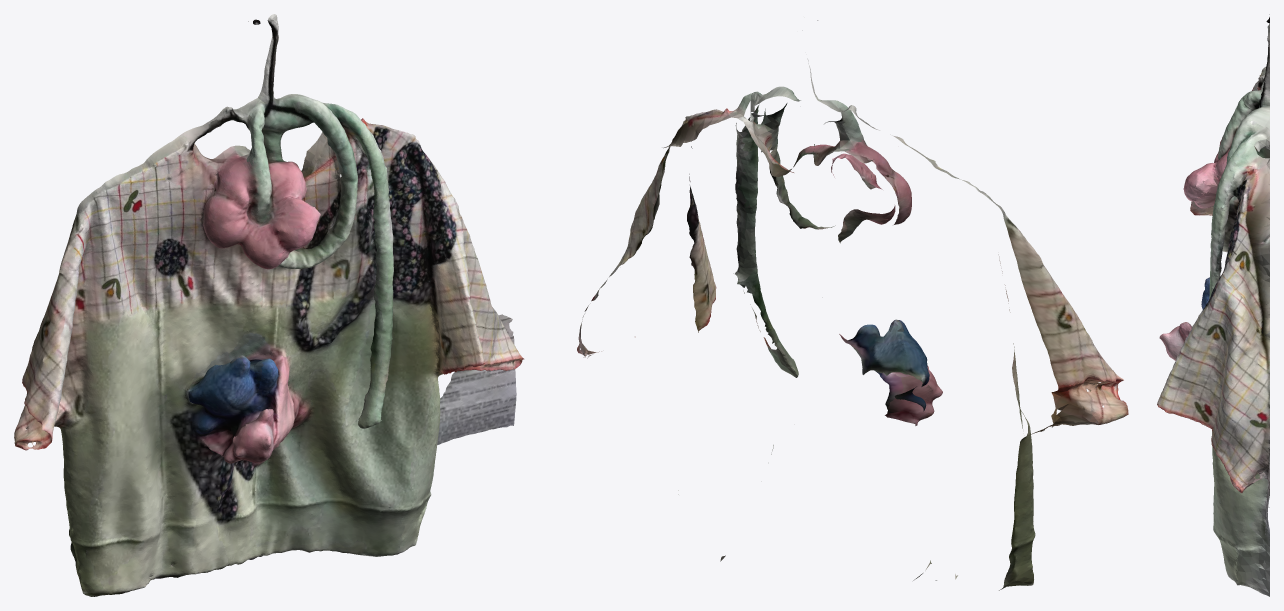
Rendered from milliondollarshirt-c.glb.
The picture shows the model from 3 angles, left to right: view 1: azimuth 30°, elevation 25°; view 2: azimuth 150°, elevation 25°; view 3: azimuth 270°, elevation 25°; orthographic projection. The views are drawn at different scales.
Parts seen in each view (by area): view 1: mesh; view 2: mesh; view 3: mesh.
Part boxes in pixels (x1,y1,x2,y2): mesh: (14,14,524,596); mesh: (577,17,1128,590); mesh: (1157,14,1269,596).
Size of the model in its own units: 0.6814 by 0.683 by 0.1368.
Materials: 1 (1 with a texture image).
